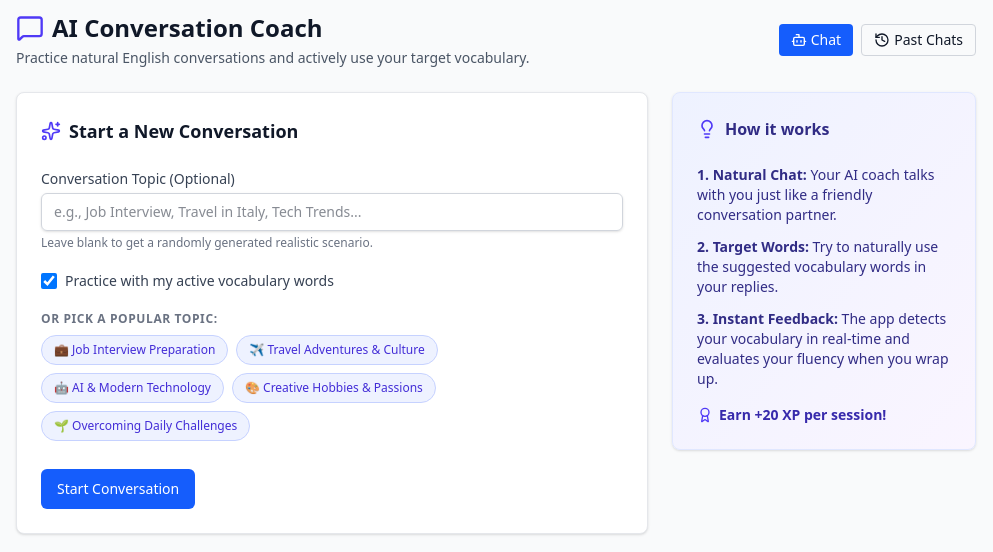
Test case: ConversationsPage › starts a conversation and displays opening message and target vocabulary
This screenshot has width=993, height=552.
Type "Job Interview Preparation" into the field with placeholder "e.g., Job Interview, Travel in Italy, Tech Trends..." at (332, 212), box x1=41 y1=193 x2=623 y2=231
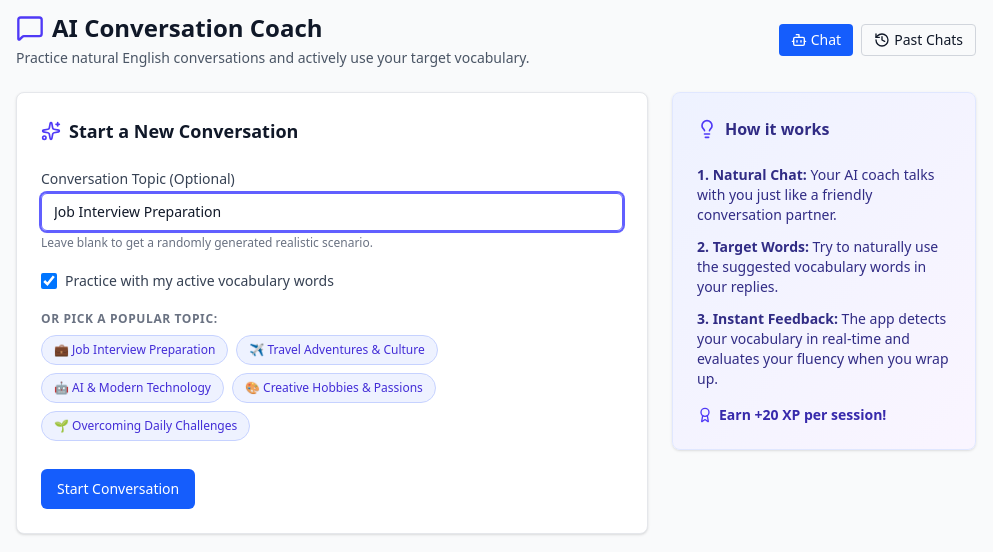
Click the button "Start Conversation" at (118, 489), box x1=41 y1=469 x2=195 y2=509
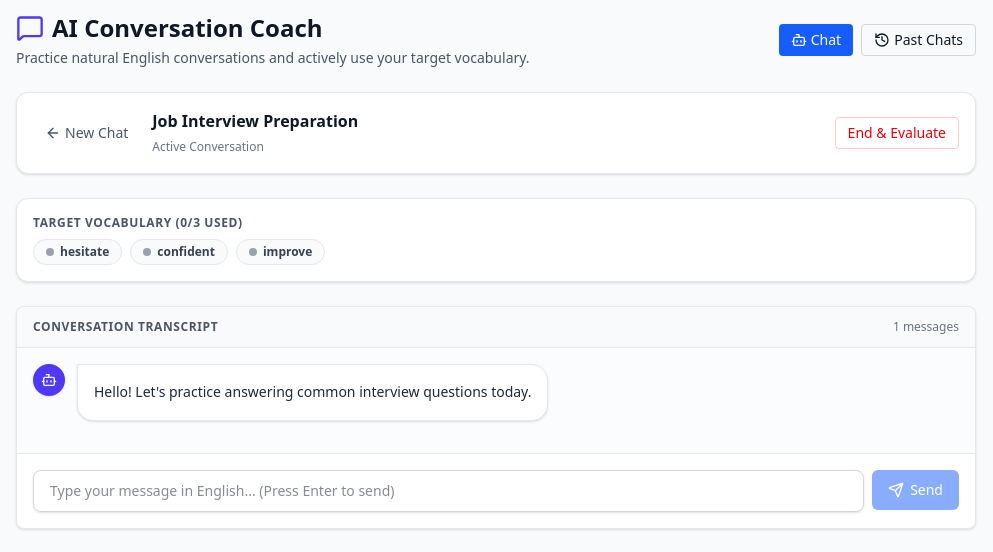
Now the text "Hello! Let's practice answering common interview questions today." is shown, box x1=94 y1=381 x2=532 y2=404
Now the text "hesitate" is shown, box x1=33 y1=239 x2=122 y2=265
Now the text "confident" is shown, box x1=130 y1=239 x2=228 y2=265
